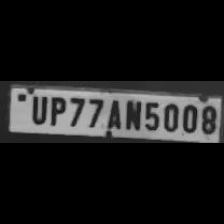0: (178, 100, 198, 134), (160, 99, 178, 131)
5: (142, 98, 160, 132)
7: (65, 94, 84, 128), (83, 96, 103, 128)
8: (198, 102, 216, 134)
A: (103, 96, 123, 130)
N: (122, 97, 140, 130)
P: (46, 94, 66, 126)
U: (26, 93, 48, 125)
